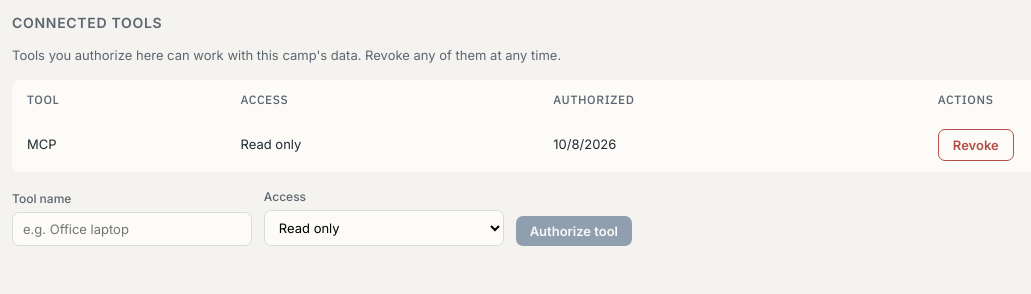
Test: ConnectedToolsPanel › surfaces a grant failure and a revoke failure
In the field labelled "Tool name": coordinates (132, 229) [12, 212, 252, 246], type "X"
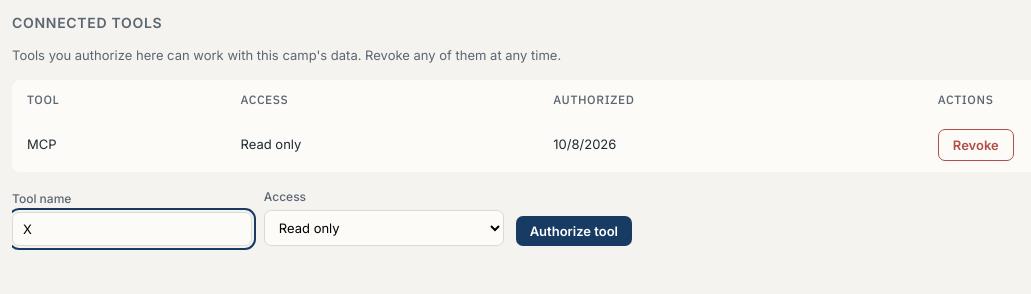
Click the button "Authorize tool": coordinates (574, 231) [516, 216, 632, 246]
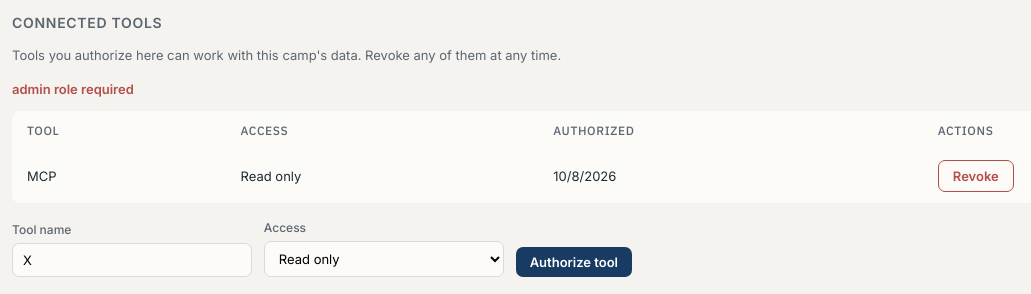
Expected: the message reads "admin role required", [12, 81, 134, 97]
Click the button "Revoke": coordinates (976, 176) [938, 160, 1014, 192]
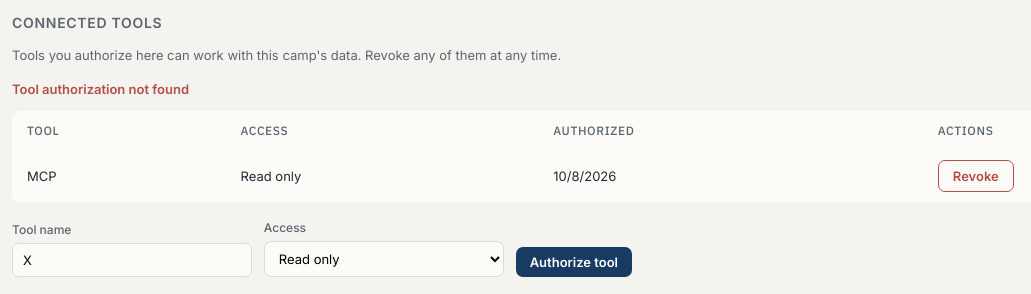
Expected: the message shows "not found", [12, 81, 189, 97]
